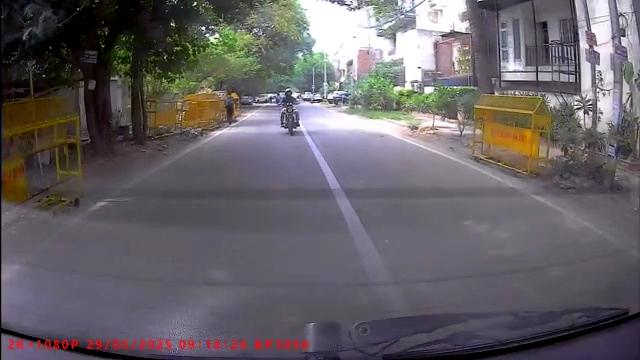motorcycle_with_helmet: (280, 87, 301, 137)
